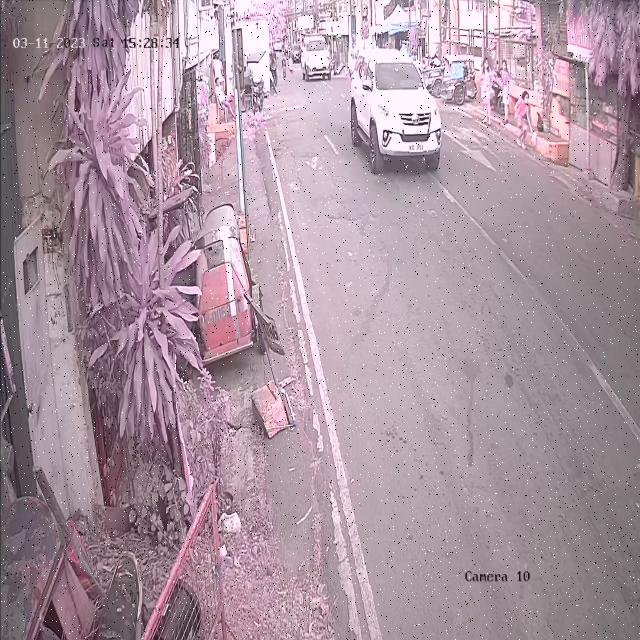human: (513, 91, 538, 151), (479, 60, 493, 126), (500, 59, 510, 122)
trash: (531, 130, 538, 146)
